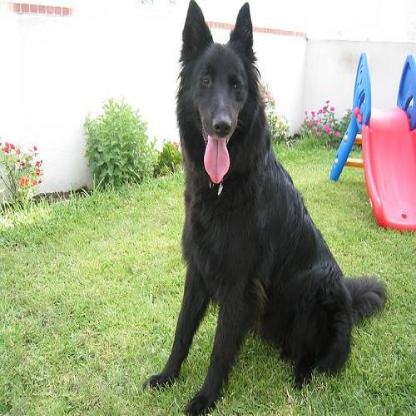groenendael: (139, 0, 389, 414)
